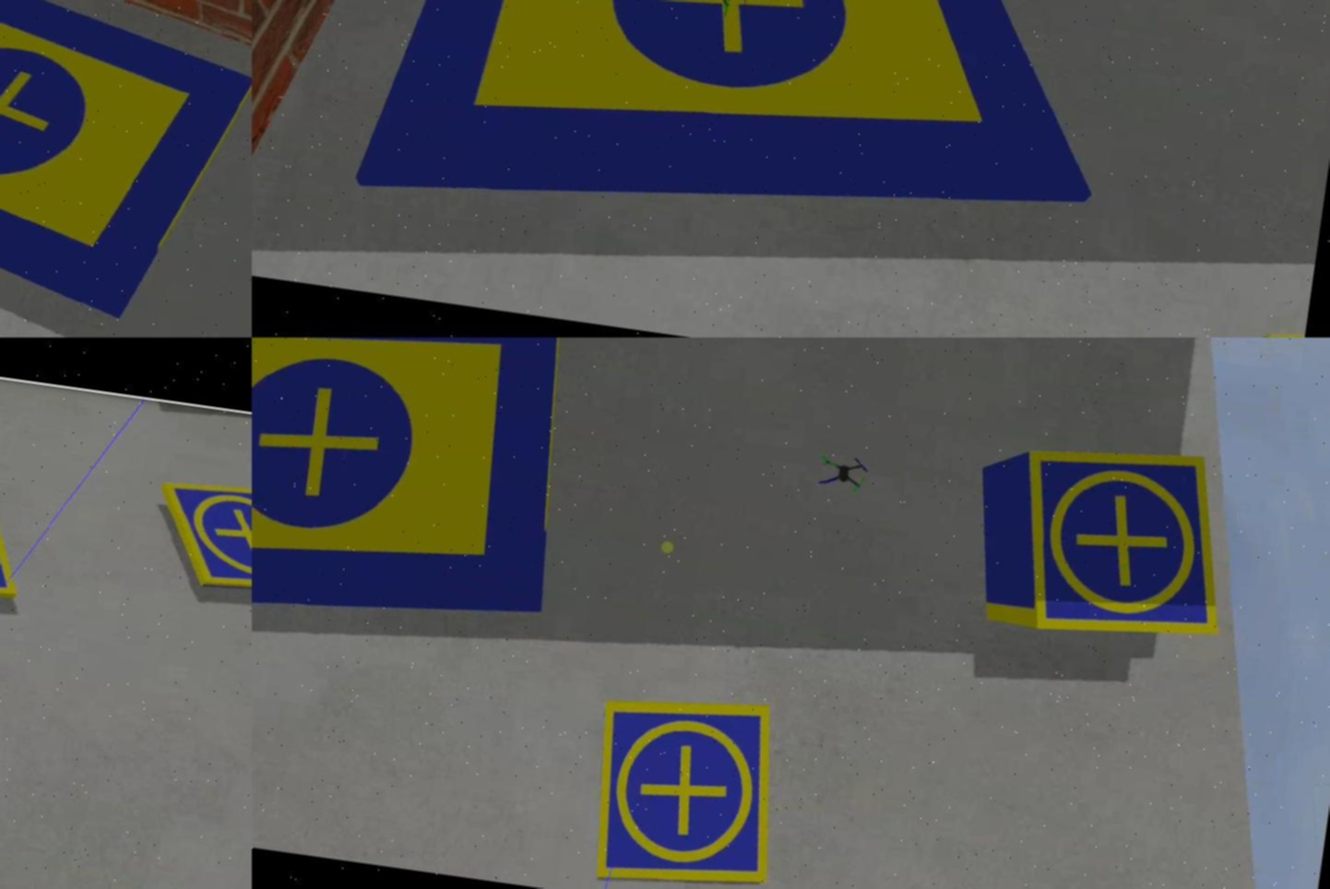large_base: (356, 1, 1137, 282), (253, 338, 589, 670), (1, 1, 253, 338)
small_base: (1000, 430, 1245, 654), (580, 688, 795, 889), (155, 475, 253, 606)
